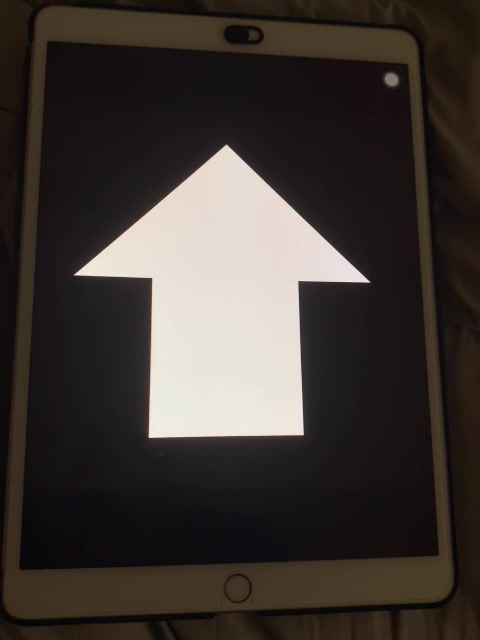up: (73, 141, 372, 441)
